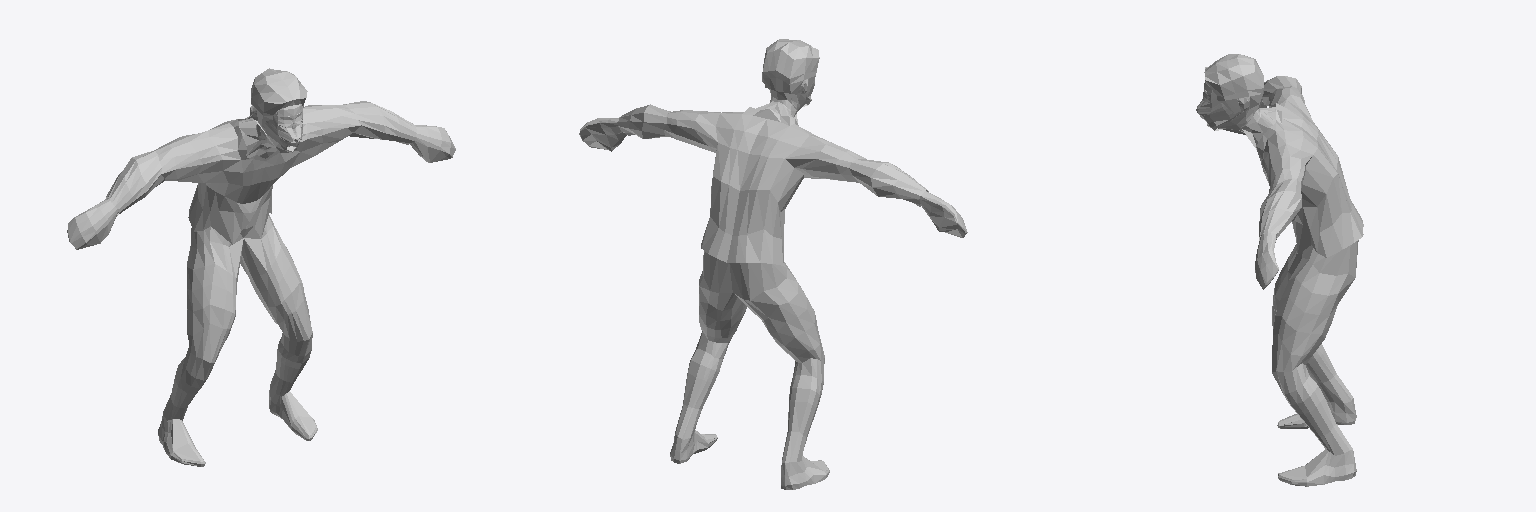
The model's file is Monster-low-poly-for-unity.obj.
3 views of the same model, side by side, from view 1: azimuth 30°, elevation 25°; view 2: azimuth 150°, elevation 25°; view 3: azimuth 270°, elevation 25° (orthographic).
Visible parts, largest first — view 1: Cube.002_Cube.001; view 2: Cube.002_Cube.001; view 3: Cube.002_Cube.001.
Boxes of the visible parts, x1=… form: Cube.002_Cube.001: x1=67, y1=68, x2=455, y2=466; Cube.002_Cube.001: x1=579, y1=39, x2=967, y2=489; Cube.002_Cube.001: x1=1196, y1=54, x2=1363, y2=486.
Size of the model in its own units: 4.9 by 4.81 by 1.85.